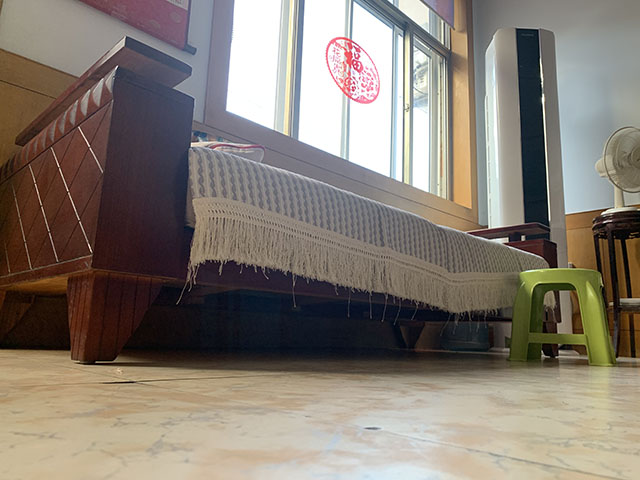sofa: (1, 34, 563, 365)
stool: (506, 266, 619, 367)
